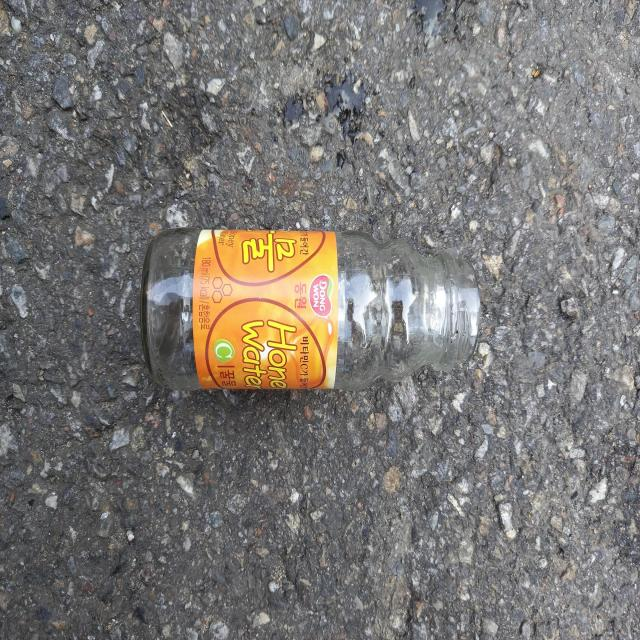glass: (141, 228, 481, 390)
